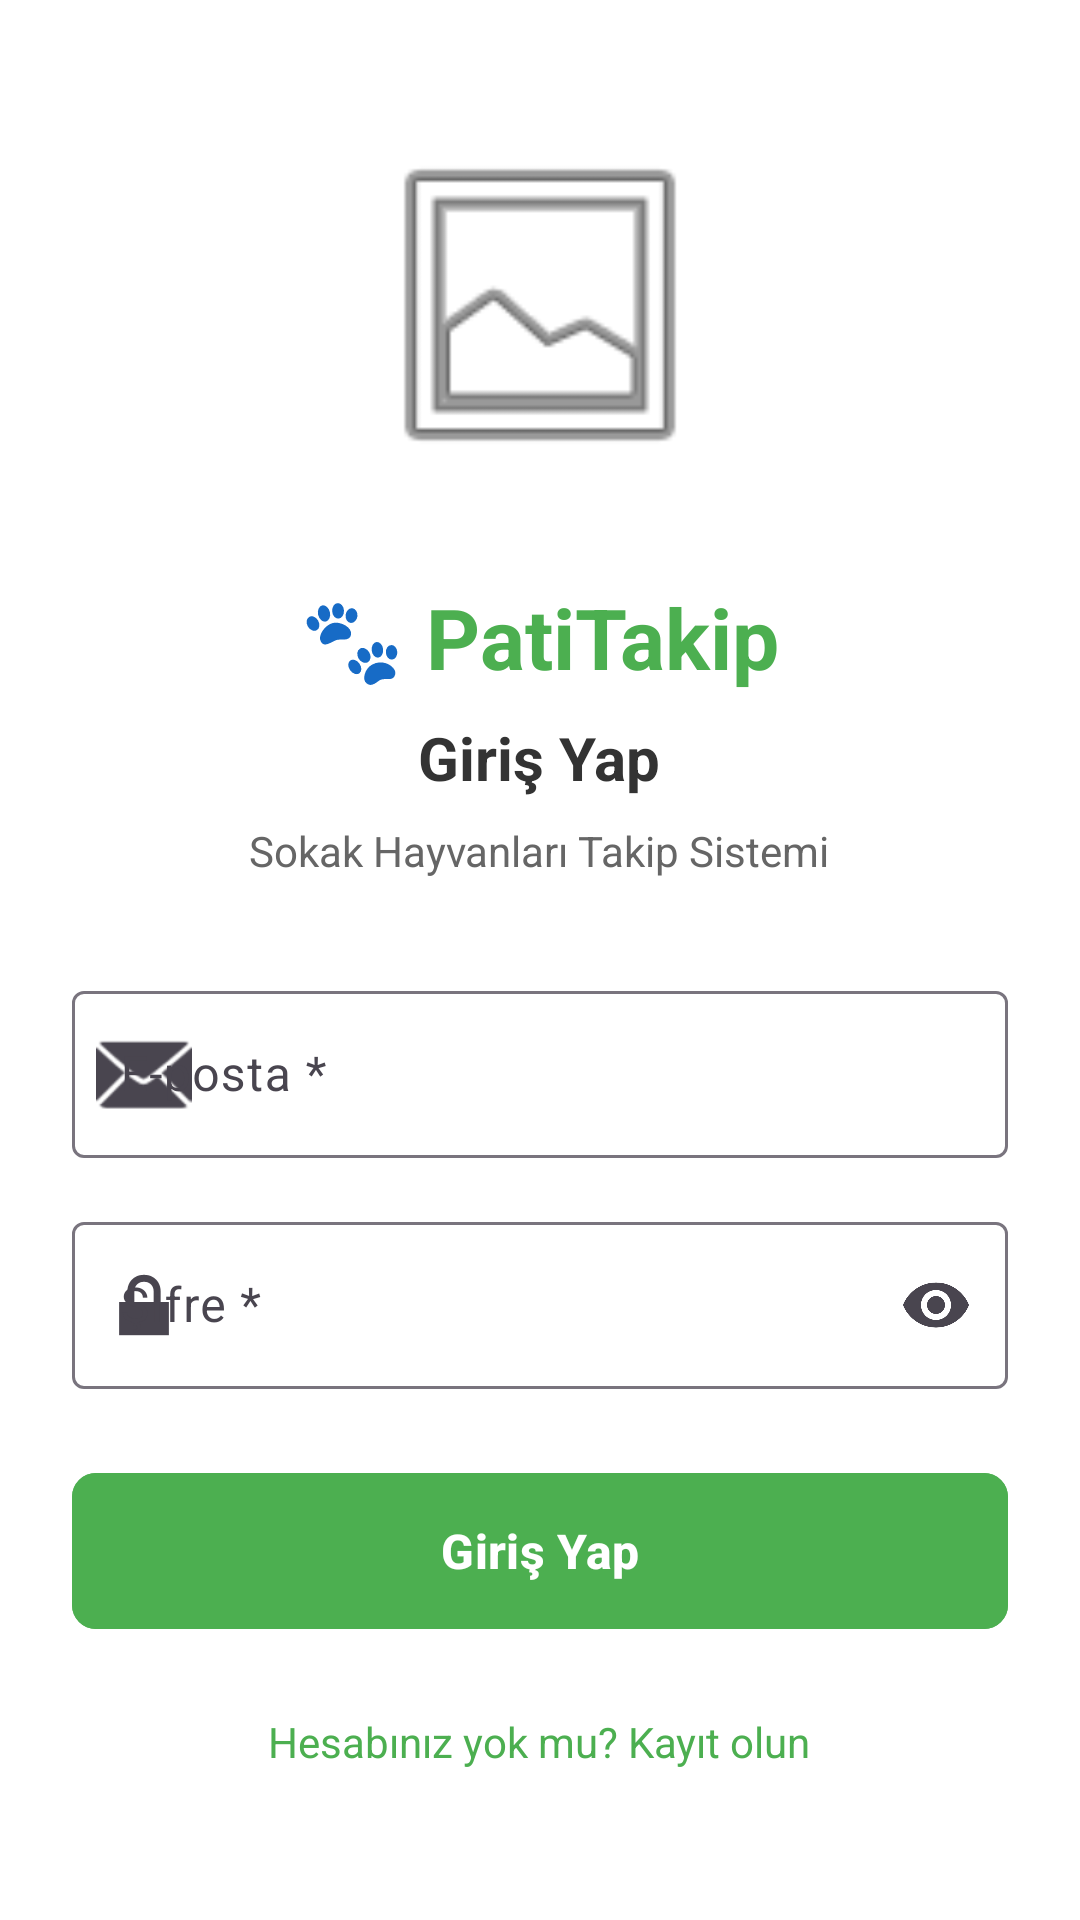

Screen size 1080px x 1920px. Icon name, then its box in pixels as (x1, y1, x2, y2):
gallery: (404, 169, 676, 441)
